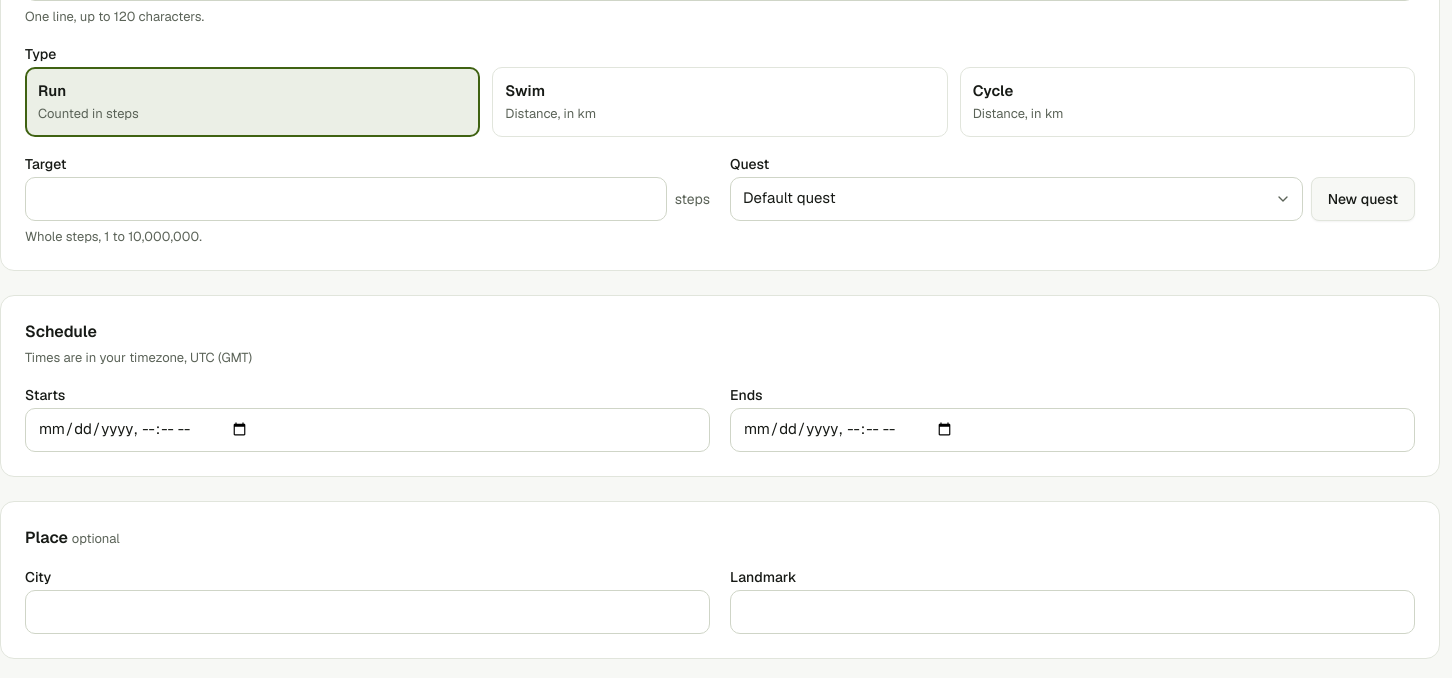
Test: ChallengeForm › medals › adds a medal with its image, name and threshold in the challenge's unit, and removes it
The image size is (1452, 678).
Step 1. Click the radio button labelled "Cycle Distance, in km" → (993, 90), box 960,66 -> 1415,136
(page scrolled)
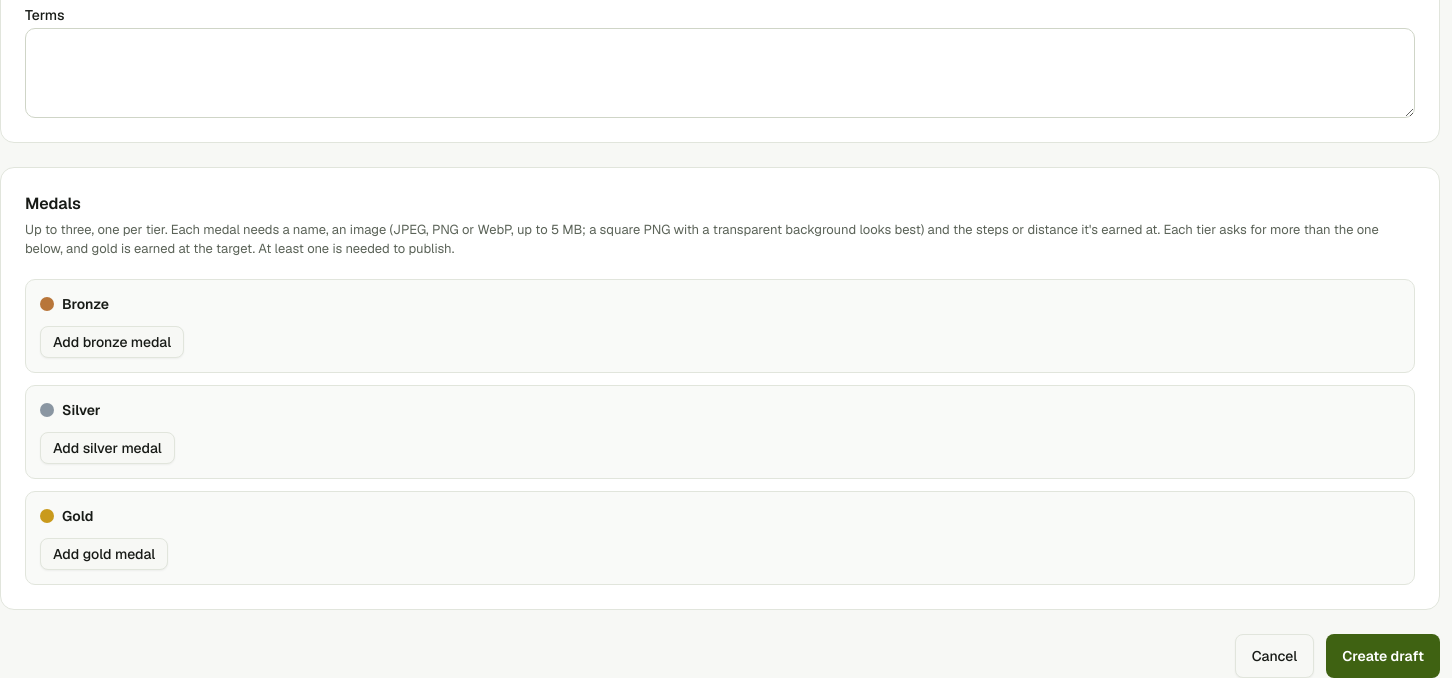
Step 2. Click the button "Add silver medal" → (107, 448), box 40,432 -> 175,464
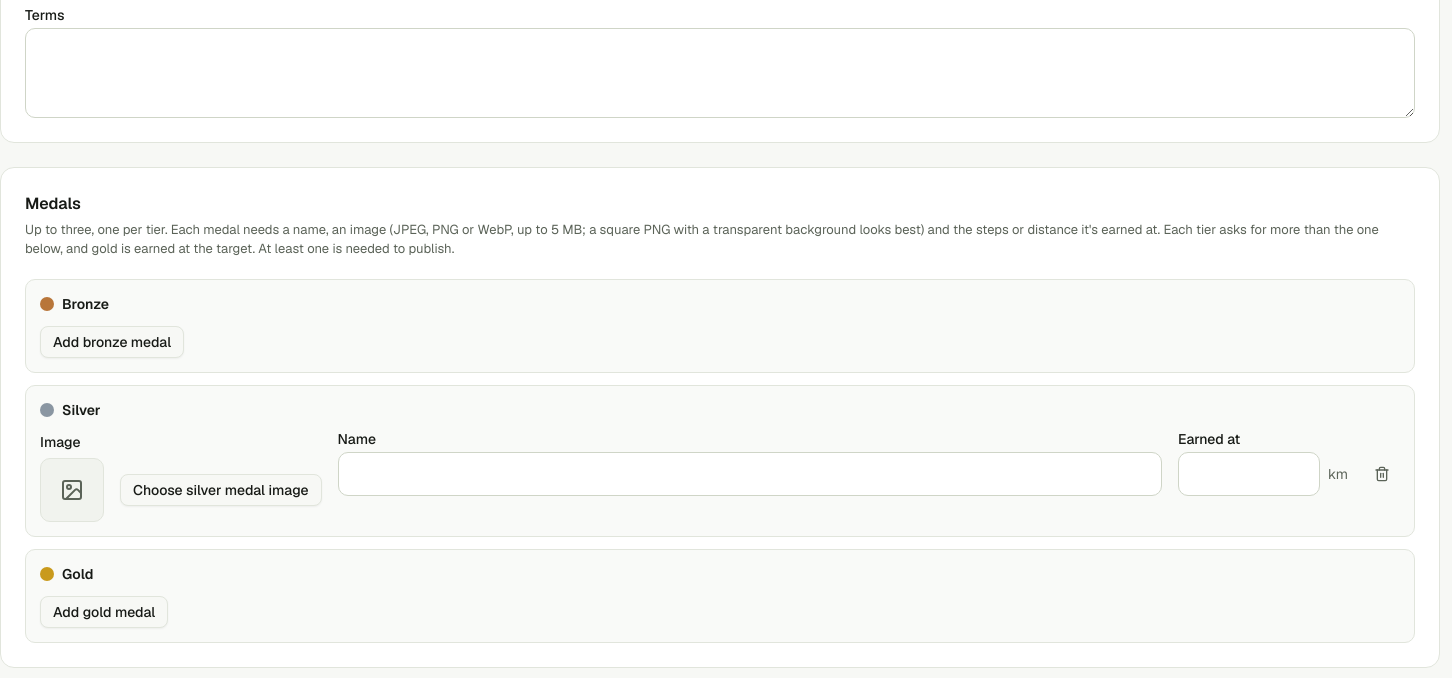
Now the field labelled "Name" is shown, box 338,452 -> 1162,496
Now the text "km" is shown, box 1328,464 -> 1348,484
Now the button "Choose silver medal image" is shown, box 120,474 -> 322,506
Step 3. Click the button named "Remove silver medal" → (1382, 474), box 1364,456 -> 1400,492
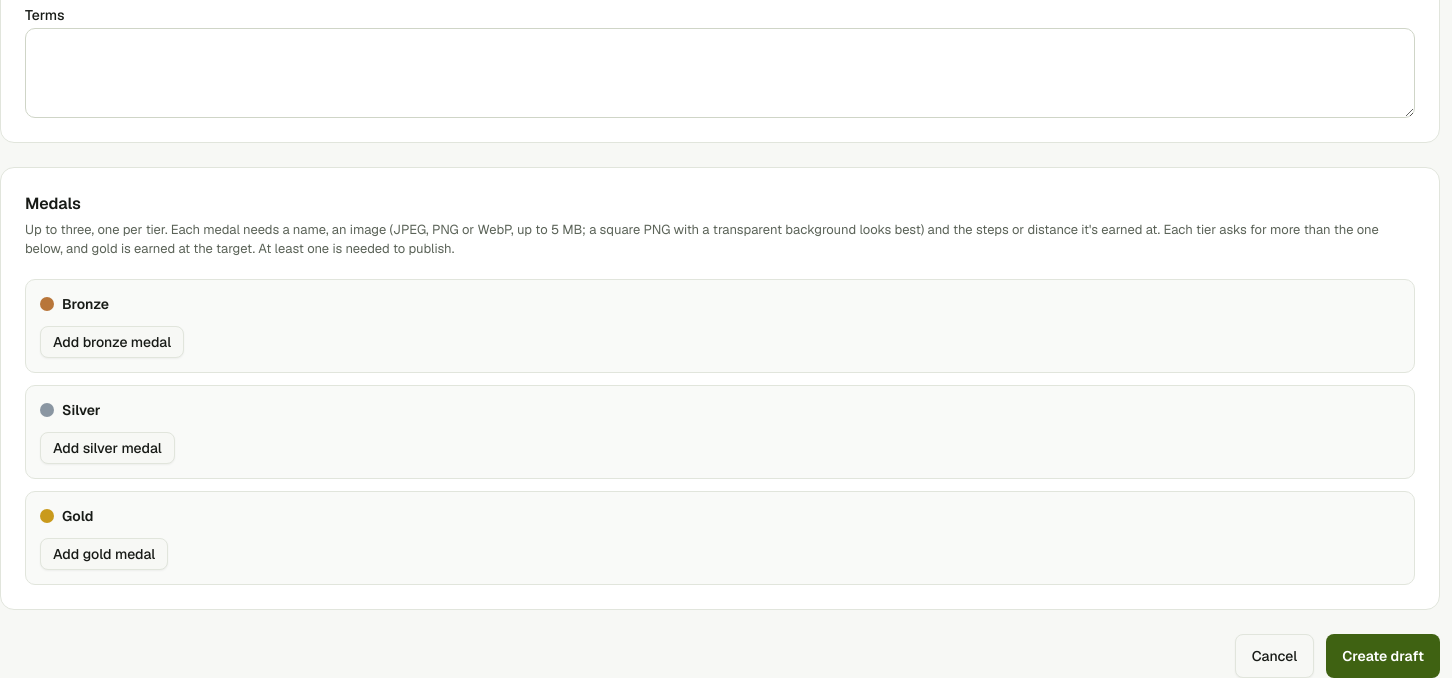
Now the button "Add silver medal" is shown, box 40,432 -> 175,464
